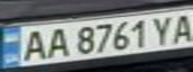1: (127, 16, 151, 48)
6: (112, 18, 133, 52)
7: (93, 20, 115, 53)
8: (72, 22, 96, 55)
A: (18, 27, 51, 62), (42, 25, 72, 60), (169, 10, 193, 44)
Y: (148, 12, 178, 46)
